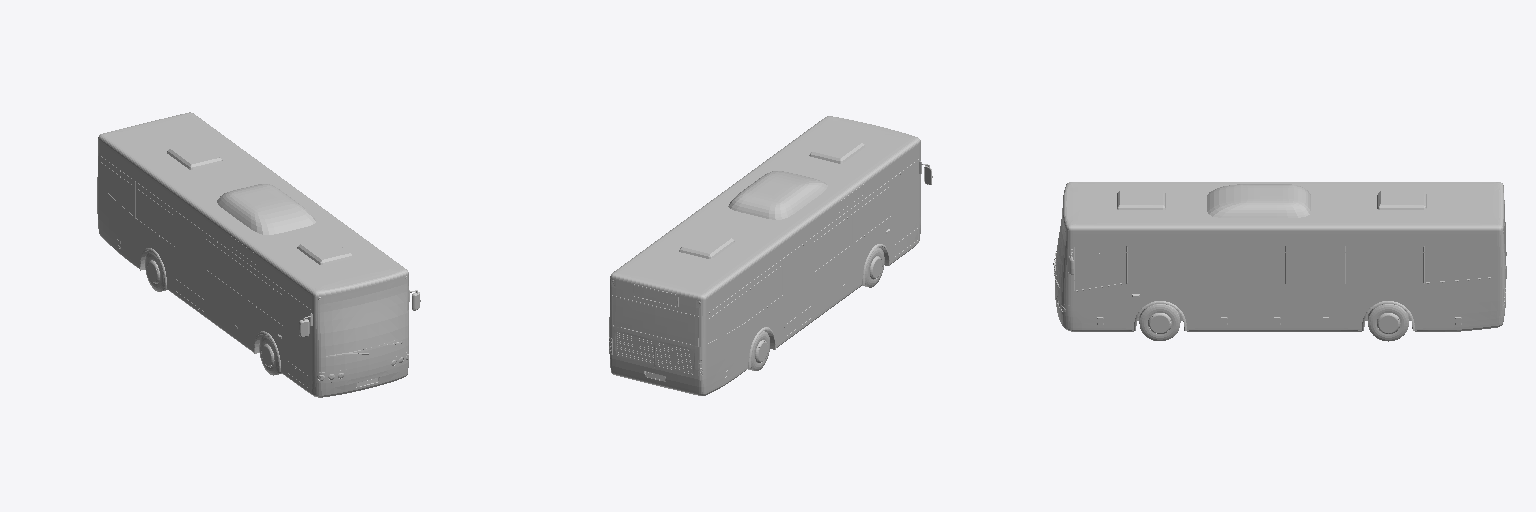
File: bus.obj
3 renders of one model, left to right at view 1: azimuth 30°, elevation 25°; view 2: azimuth 150°, elevation 25°; view 3: azimuth 270°, elevation 25°, orthographic.
Visible parts, largest first — view 1: body_2, glass_5, plastic_11, glassblk_6, body_blk_3, tyre_15; view 2: body_2, glass_5, plastic_11, body_blk_3, glassblk_6, black_1, tyre_15; view 3: body_2, glass_5, plastic_11, body_blk_3, tyre_15, wheel_16, glassblk_6.
Boxes of the visible parts, x1,y1,x2,y2 form: body_2: [97, 112, 408, 397]; glass_5: [99, 156, 408, 380]; plastic_11: [100, 156, 420, 390]; glassblk_6: [176, 213, 408, 376]; body_blk_3: [167, 142, 352, 264]; tyre_15: [145, 252, 281, 375]; body_2: [609, 117, 920, 395]; glass_5: [613, 158, 920, 345]; plastic_11: [612, 159, 932, 379]; body_blk_3: [679, 136, 864, 258]; glassblk_6: [784, 116, 920, 325]; black_1: [609, 258, 877, 384]; tyre_15: [748, 247, 884, 370]; body_2: [1055, 182, 1506, 331]; glass_5: [1055, 204, 1505, 290]; plastic_11: [1053, 200, 1506, 330]; body_blk_3: [1117, 191, 1426, 209]; tyre_15: [1139, 304, 1408, 341]; wheel_16: [1148, 313, 1400, 333]; glassblk_6: [1055, 182, 1072, 293].
Bounding box in the file's own units: 3.15 × 3.14 × 10.25.